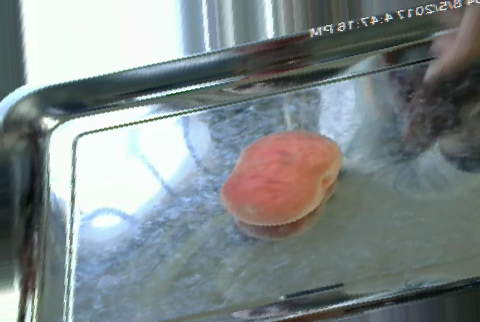Peach: (214, 128, 338, 227)
